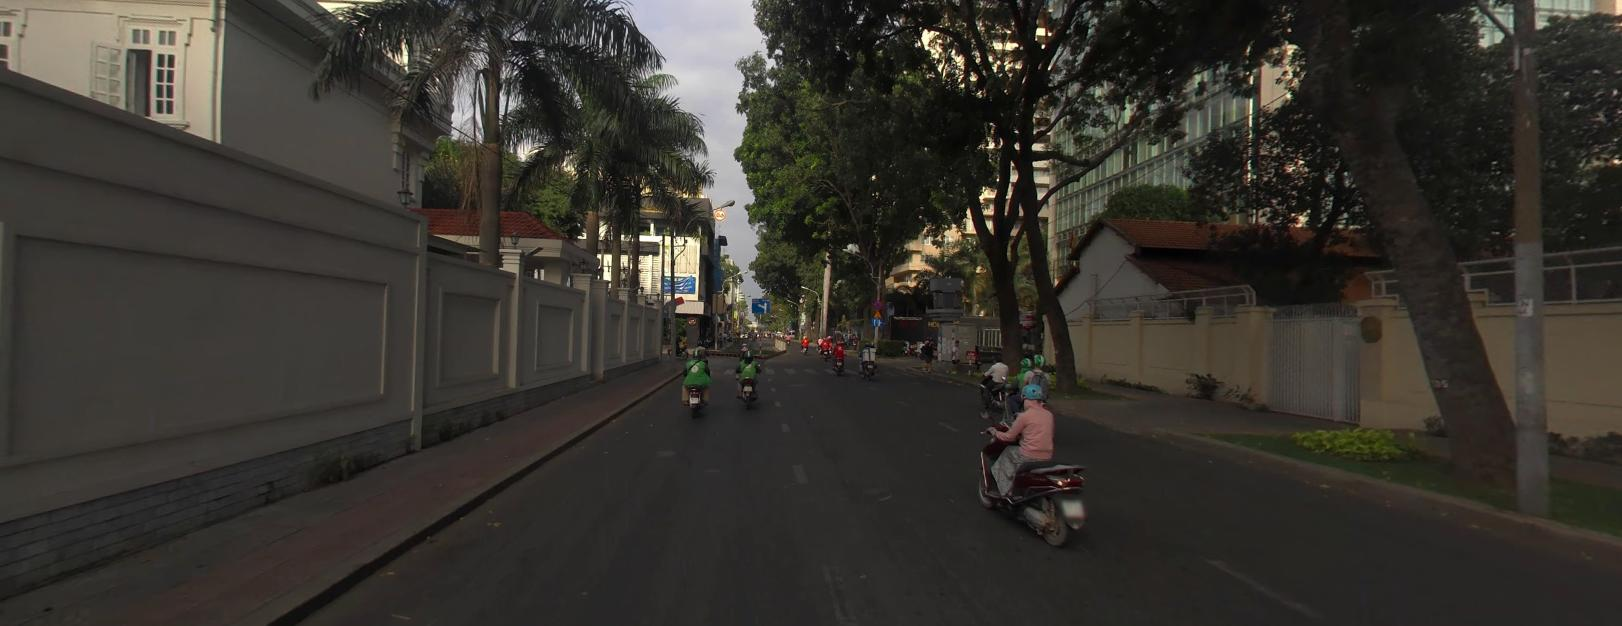Cam dung va do: (873, 298, 882, 307)
Nguy hiem: (872, 308, 881, 316)
